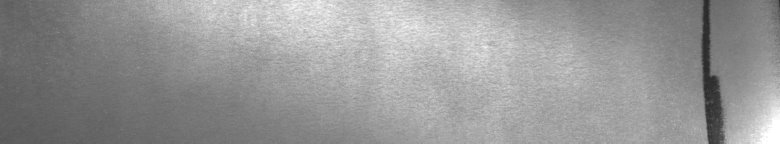hd: (696, 4, 724, 136)
